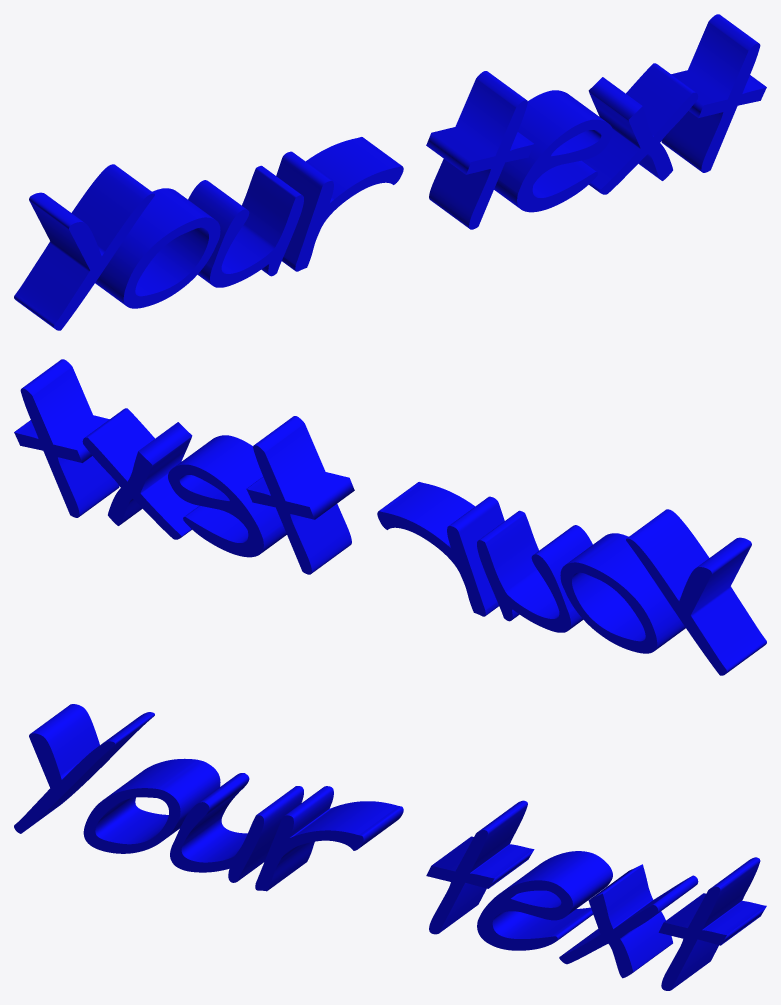
3 views of the same model, one above another, from view 1: azimuth 30°, elevation 25°; view 2: azimuth 150°, elevation 25°; view 3: azimuth 330°, elevation 25° (orthographic).
Visible parts, largest first — view 1: Your text; view 2: Your text; view 3: Your text.
Boxes of the visible parts, x1,y1,x2,y2 form: Your text: (14,14,766,330); Your text: (14,359,766,675); Your text: (14,704,766,990).
Size of the model in its own units: 4.63 by 0.7266 by 0.45.
